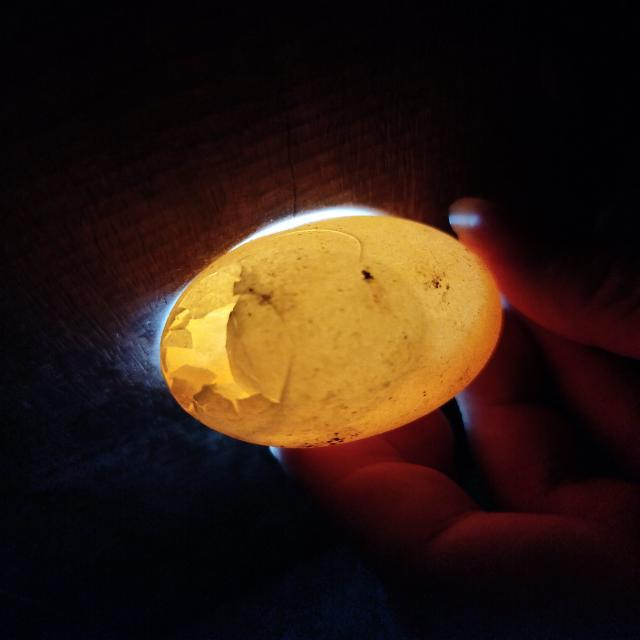Rachadura: (160, 254, 298, 424)
